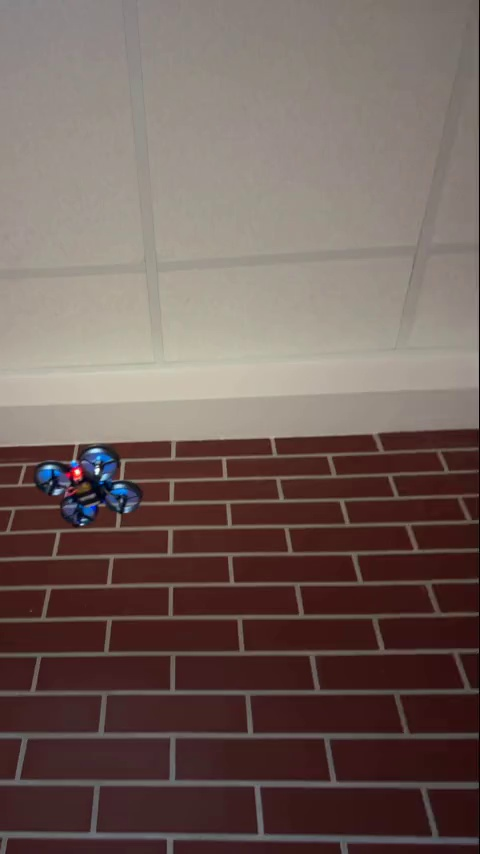drone: (33, 445, 142, 528)
